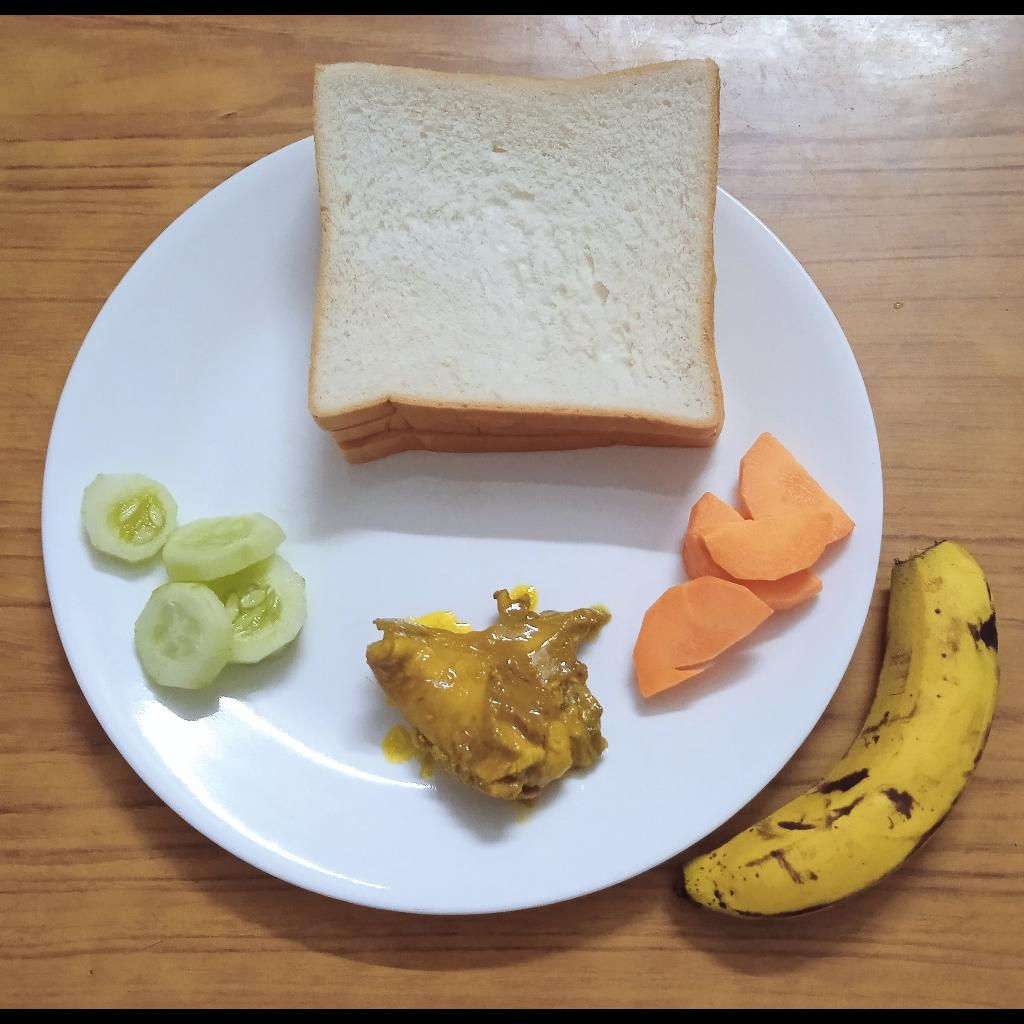banana: (680, 542, 998, 916)
bread: (307, 60, 725, 467)
carrot: (632, 432, 855, 699)
chicken: (367, 589, 608, 800)
cucumber: (78, 471, 308, 689)
